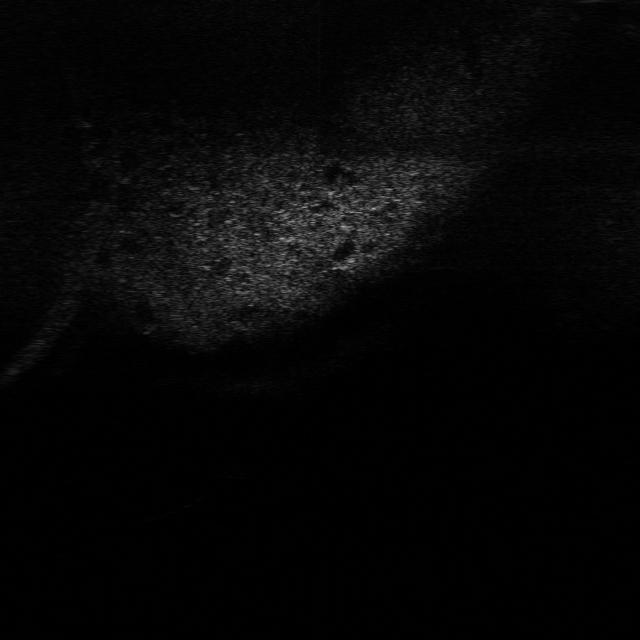cube: (207, 452, 261, 484)
